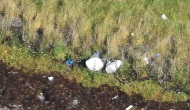scattered_barrel: (40, 5, 175, 84)
